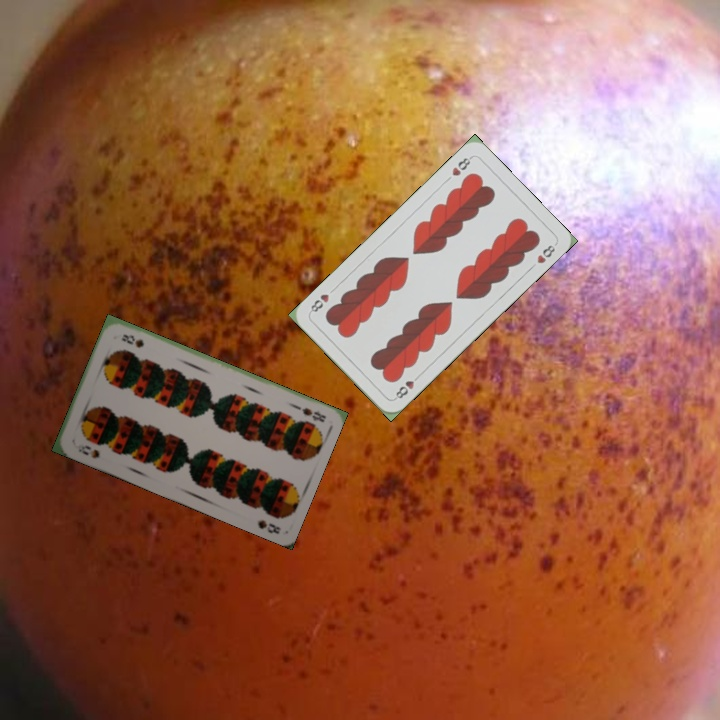H8: (390, 370, 423, 402), (448, 152, 475, 178)
S8: (289, 401, 328, 425), (69, 441, 102, 461)
